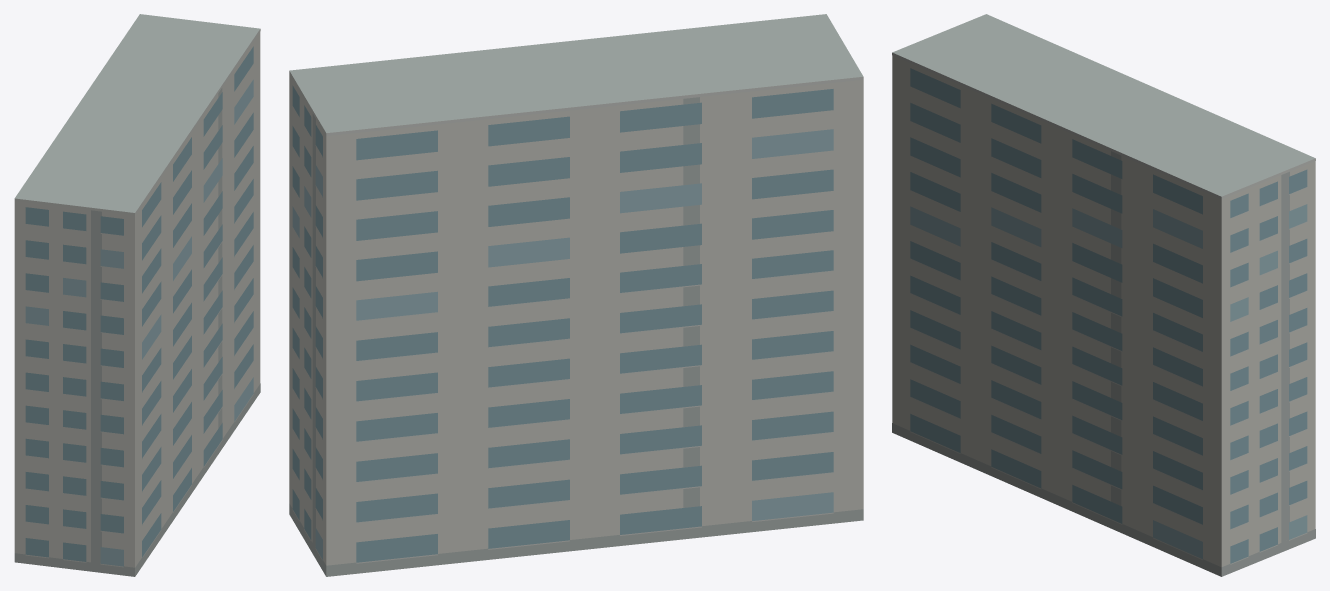
Rendered from residential-1aa7992e-90dd-45d8-83f5-adf80bfee121.glb.
The picture shows the model from 3 angles, left to right: view 1: azimuth 30°, elevation 25°; view 2: azimuth 150°, elevation 25°; view 3: azimuth 270°, elevation 25°; orthographic projection. The views are drawn at different scales.
Visible parts, largest first — view 1: residential-1aa7992e-90dd-45d8-83f5-adf80bfee121.tmp; view 2: residential-1aa7992e-90dd-45d8-83f5-adf80bfee121.tmp; view 3: residential-1aa7992e-90dd-45d8-83f5-adf80bfee121.tmp.
Part boxes in pixels (x1,y1,x2,y2): residential-1aa7992e-90dd-45d8-83f5-adf80bfee121.tmp: (14, 14, 260, 576); residential-1aa7992e-90dd-45d8-83f5-adf80bfee121.tmp: (289, 14, 863, 576); residential-1aa7992e-90dd-45d8-83f5-adf80bfee121.tmp: (892, 14, 1315, 576).
Bounding box in the file's own units: 35.05 × 34 × 34.34.
